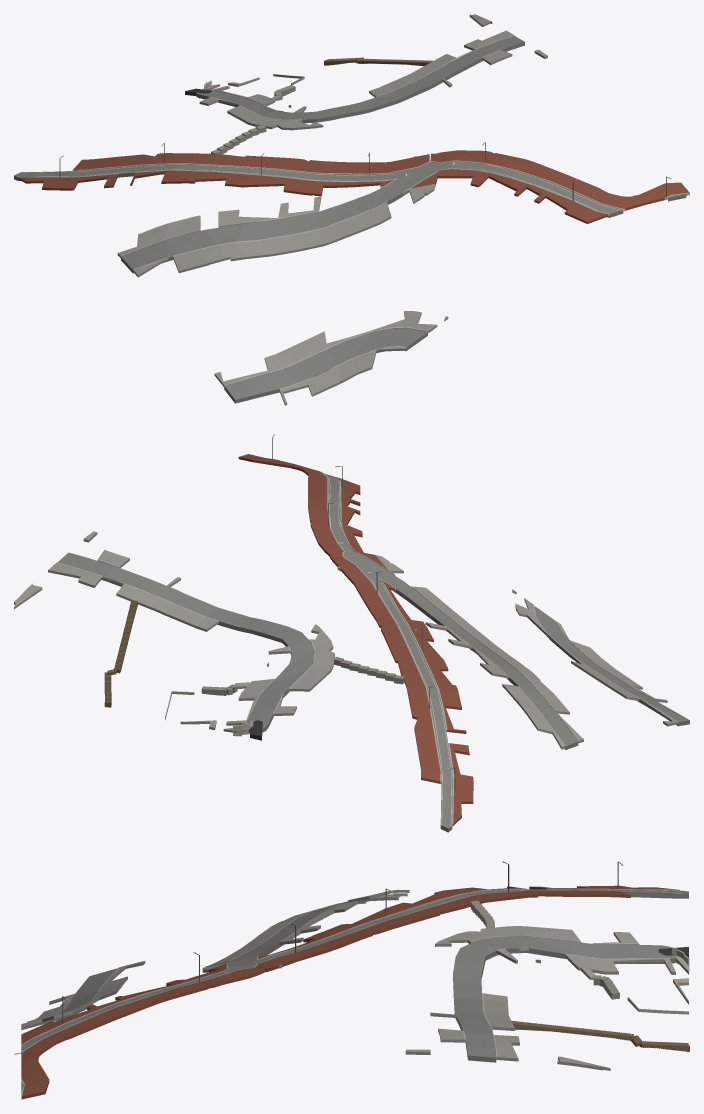
The model's file is 18-218864-118954.f7cbaa56.glb.
3 renders of one model, top to bottom at view 1: azimuth 30°, elevation 25°; view 2: azimuth 150°, elevation 25°; view 3: azimuth 270°, elevation 25°, orthographic. The views are drawn at different scales.
Bounding box in the file's own units: 147 × 52.55 × 148.
